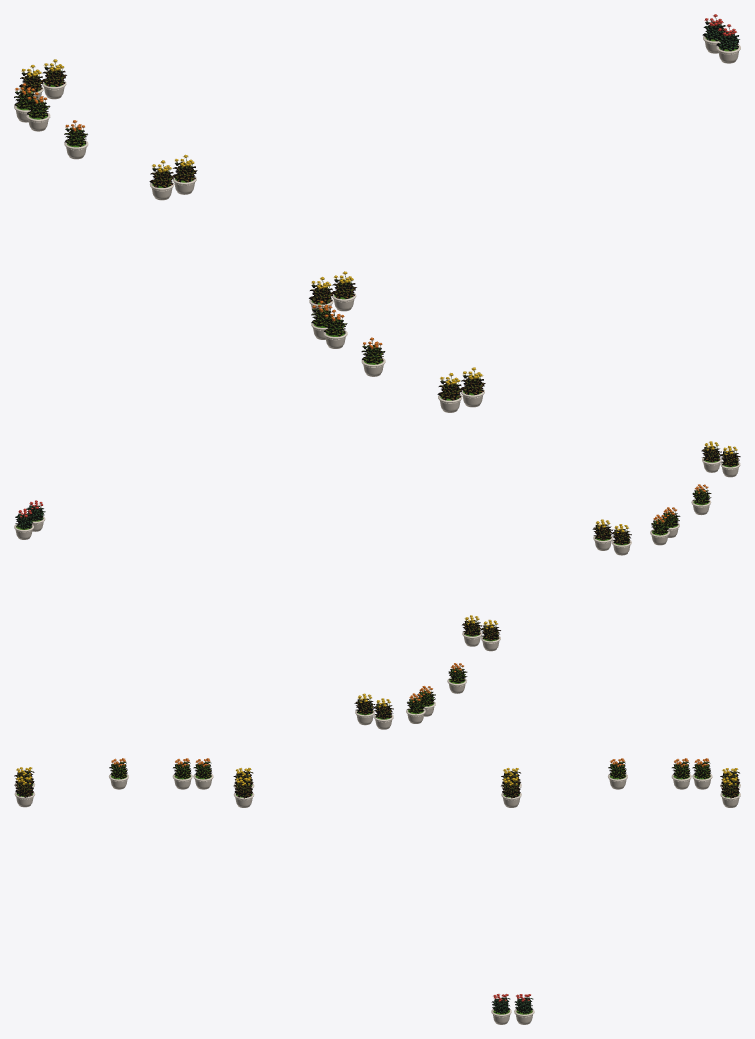
File: hoacuc.fbx
3 views of the same model, one above another, from view 1: azimuth 30°, elevation 25°; view 2: azimuth 150°, elevation 25°; view 3: azimuth 270°, elevation 25° (orthographic). The views are drawn at different scales.
Parts seen in each view (by area): view 1: hoacuc_vang13, hoacuc_vang14, hoacuc_vang9, hoacuc_vang3, hoacuc_vang10, hoacuc_vang12, hoacuc_cam7, hoacuc_cam8, hoacuc_do9, hoacuc_cam5, hoacuc_cam6; view 2: hoacuc_vang15, hoacuc_vang3, hoacuc_vang9, hoacuc_vang14, hoacuc_vang10, hoacuc_vang12, hoacuc_vang13, hoacuc_vang11, hoacuc_do8, hoacuc_cam; view 3: hoacuc_vang9, hoacuc_vang10, hoacuc_vang14, hoacuc_vang12, hoacuc_do9, hoacuc_do8, hoacuc_cam9, hoacuc_cam7, hoacuc_cam6, hoacuc_cam, hoacuc_cam8, hoacuc_cam5.
Part boxes in pixels (x1,y1,x2,y2): hoacuc_vang13: [149, 160, 174, 200]; hoacuc_vang14: [42, 59, 66, 99]; hoacuc_vang9: [460, 367, 485, 407]; hoacuc_vang3: [437, 373, 462, 412]; hoacuc_vang10: [332, 271, 356, 311]; hoacuc_vang12: [172, 154, 197, 194]; hoacuc_cam7: [64, 120, 88, 159]; hoacuc_cam8: [26, 92, 50, 131]; hoacuc_do9: [716, 24, 740, 63]; hoacuc_cam5: [323, 309, 347, 348]; hoacuc_cam6: [361, 337, 385, 376]; hoacuc_vang15: [373, 698, 393, 729]; hoacuc_vang3: [720, 446, 740, 477]; hoacuc_vang9: [701, 441, 721, 472]; hoacuc_vang14: [354, 693, 375, 725]; hoacuc_vang10: [592, 519, 613, 550]; hoacuc_vang12: [462, 615, 482, 646]; hoacuc_vang13: [480, 619, 500, 651]; hoacuc_vang11: [611, 524, 631, 555]; hoacuc_do8: [14, 508, 34, 539]; hoacuc_cam: [650, 514, 669, 545]; hoacuc_vang9: [14, 776, 34, 807]; hoacuc_vang10: [233, 777, 254, 807]; hoacuc_vang14: [720, 777, 740, 807]; hoacuc_vang12: [501, 777, 521, 807]; hoacuc_do9: [491, 994, 511, 1024]; hoacuc_do8: [514, 994, 534, 1024]; hoacuc_cam9: [692, 758, 712, 789]; hoacuc_cam7: [608, 758, 627, 789]; hoacuc_cam6: [109, 758, 128, 789]; hoacuc_cam: [193, 758, 213, 789]; hoacuc_cam8: [671, 758, 691, 789]; hoacuc_cam5: [172, 758, 192, 789].
Bounding box in the file's own units: 1691 × 102 × 2096.
